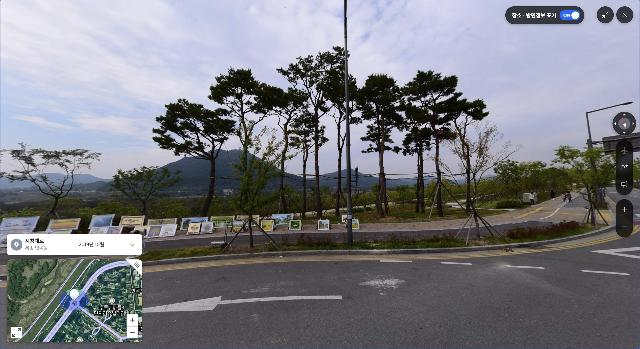other: (276, 46, 353, 221), (429, 120, 526, 234), (394, 69, 466, 218), (151, 98, 238, 220), (218, 118, 298, 249), (207, 66, 275, 218), (354, 73, 413, 220), (0, 142, 102, 222), (248, 85, 307, 217), (436, 93, 490, 217), (545, 145, 617, 225), (109, 165, 183, 220)
